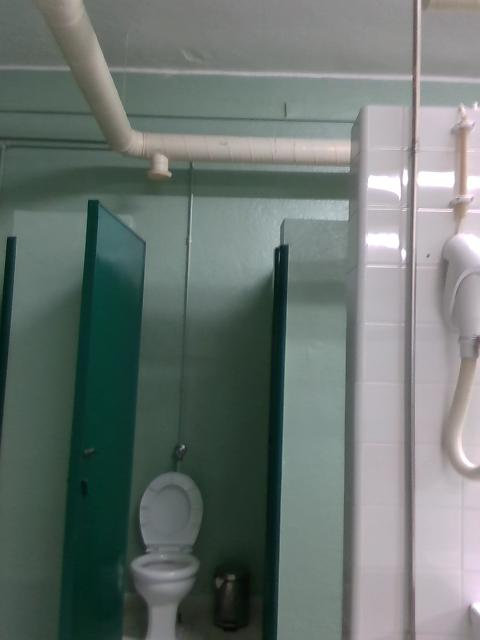open_door: (127, 214, 286, 639)
